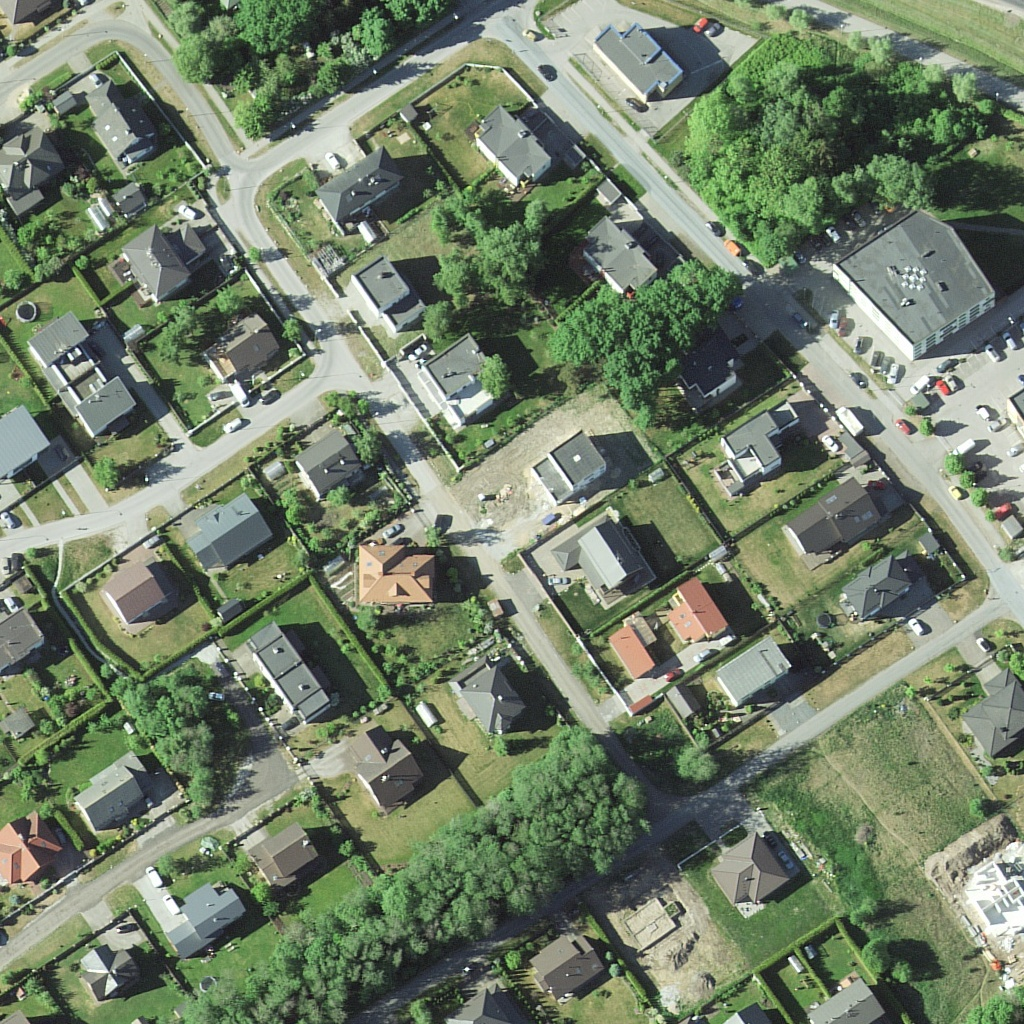building: (814, 193, 1004, 355), (308, 140, 412, 238), (245, 616, 334, 726), (589, 12, 681, 113), (702, 823, 794, 908), (422, 335, 506, 427), (475, 95, 558, 188), (116, 221, 205, 302), (527, 423, 616, 502), (353, 534, 440, 614), (570, 516, 652, 598), (718, 408, 801, 489), (353, 721, 424, 812), (192, 493, 273, 572), (449, 660, 522, 745), (589, 206, 659, 292), (794, 484, 878, 554), (90, 76, 154, 165), (82, 751, 147, 834), (213, 305, 277, 388), (355, 257, 427, 327), (293, 425, 366, 494), (24, 303, 93, 371), (67, 378, 137, 445), (838, 563, 920, 620), (718, 634, 783, 705), (6, 817, 68, 890), (248, 825, 322, 886), (962, 678, 1019, 756), (79, 934, 139, 1007), (529, 942, 613, 994), (612, 627, 677, 692), (673, 578, 727, 652), (807, 978, 888, 1024), (184, 877, 245, 938), (108, 559, 167, 620), (671, 345, 741, 394)
